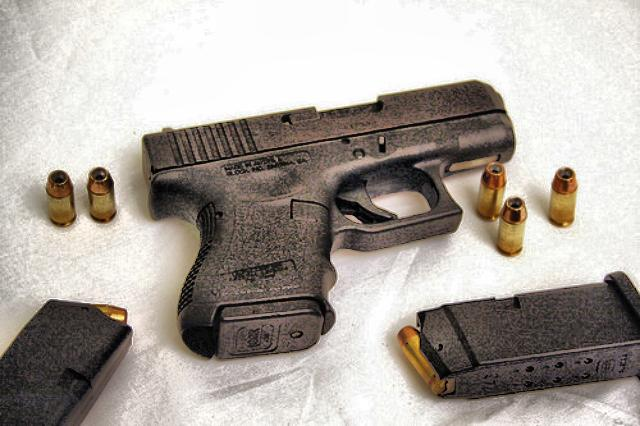pistol: (138, 72, 506, 362)
